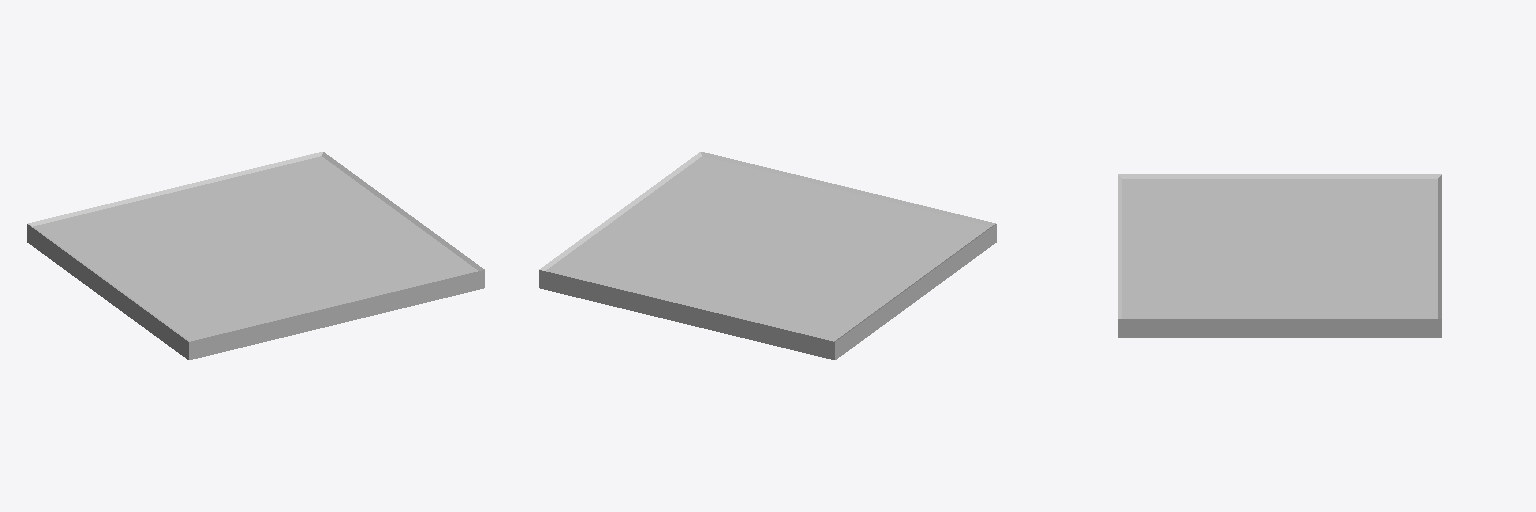
File: FlroofTile.obj
3 renders of one model, left to right at view 1: azimuth 30°, elevation 25°; view 2: azimuth 150°, elevation 25°; view 3: azimuth 270°, elevation 25°, orthographic.
Visible parts, largest first — view 1: FlroofTile; view 2: FlroofTile; view 3: FlroofTile.
Part boxes in pixels (left/top/right/bottom): FlroofTile: left=27, top=152, right=484, bottom=359; FlroofTile: left=539, top=152, right=996, bottom=359; FlroofTile: left=1118, top=174, right=1441, bottom=337.
Size of the model in its own units: 2.47 by 0.1485 by 2.33.